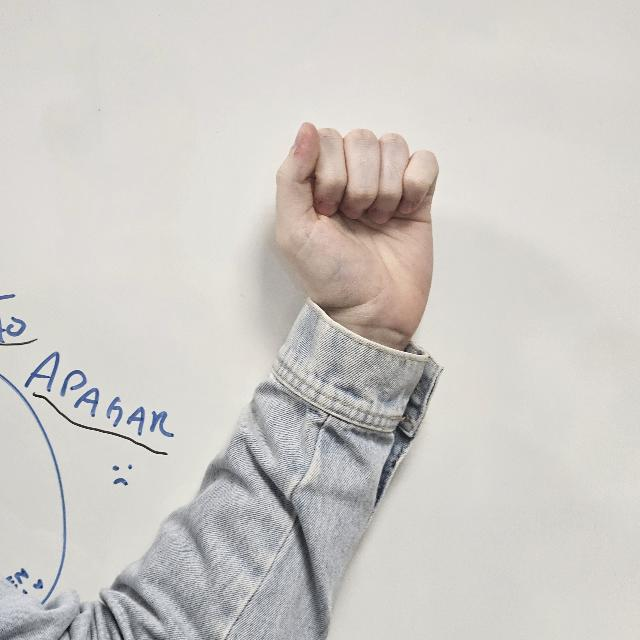Quadro: (273, 110, 439, 334)
